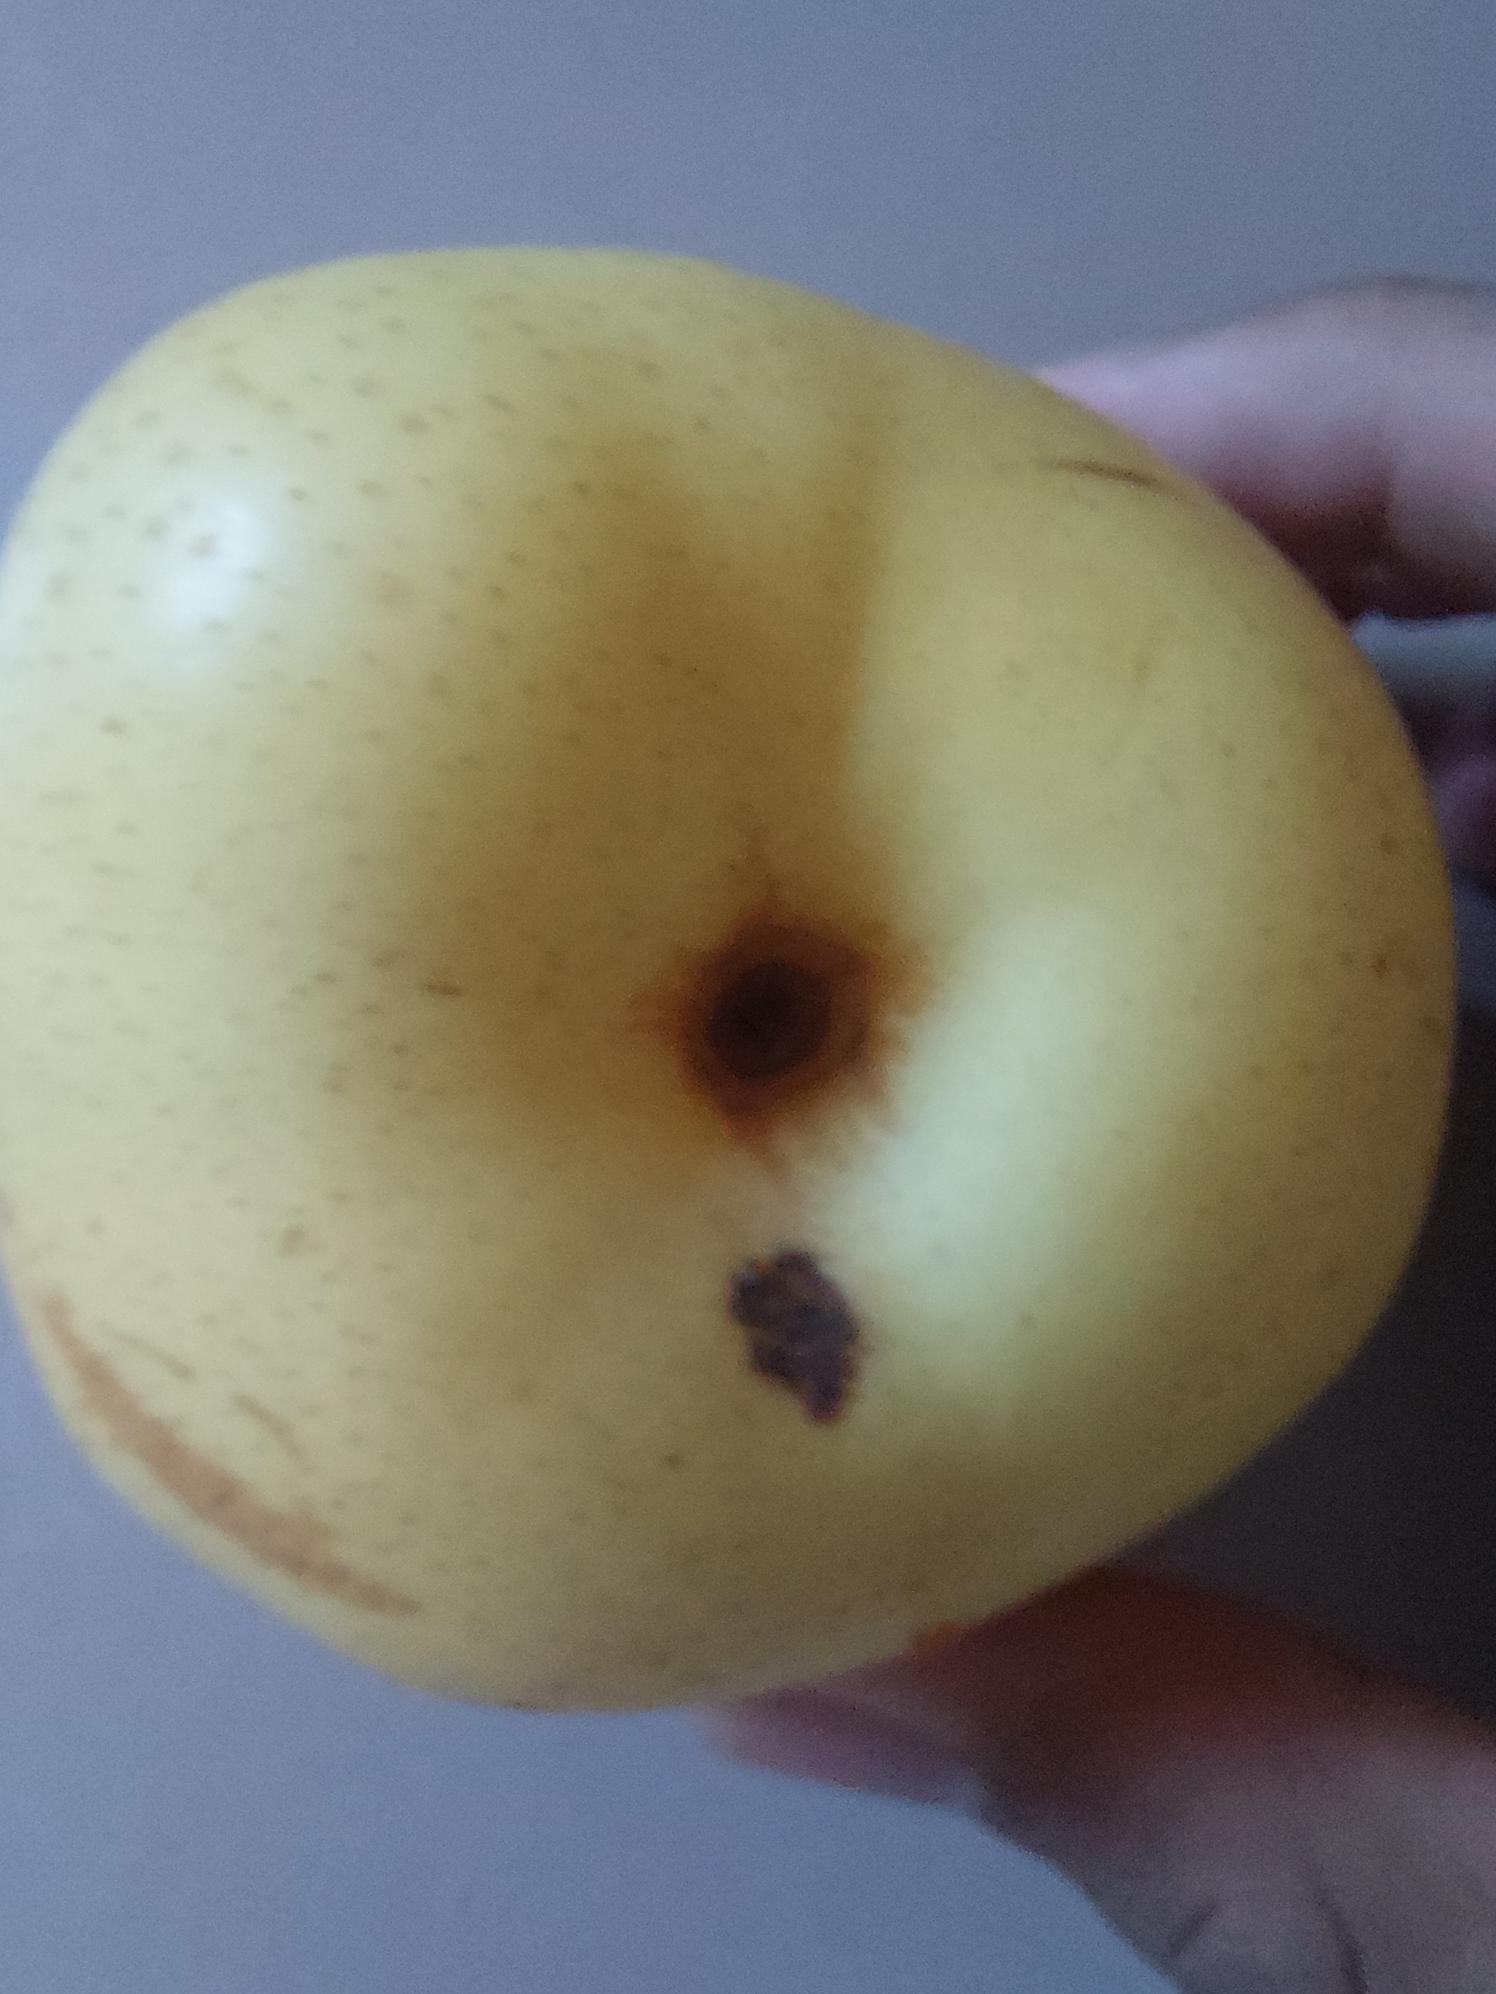Good Pear: (0, 240, 1469, 1715)
